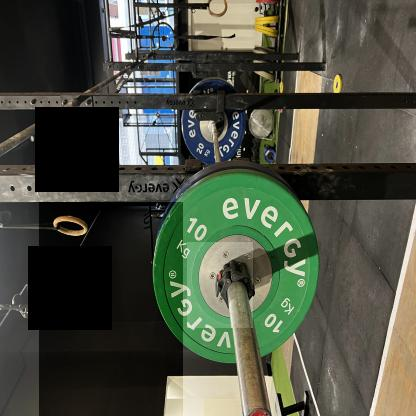barbell: (40, 203, 184, 416), (189, 243, 255, 329)
